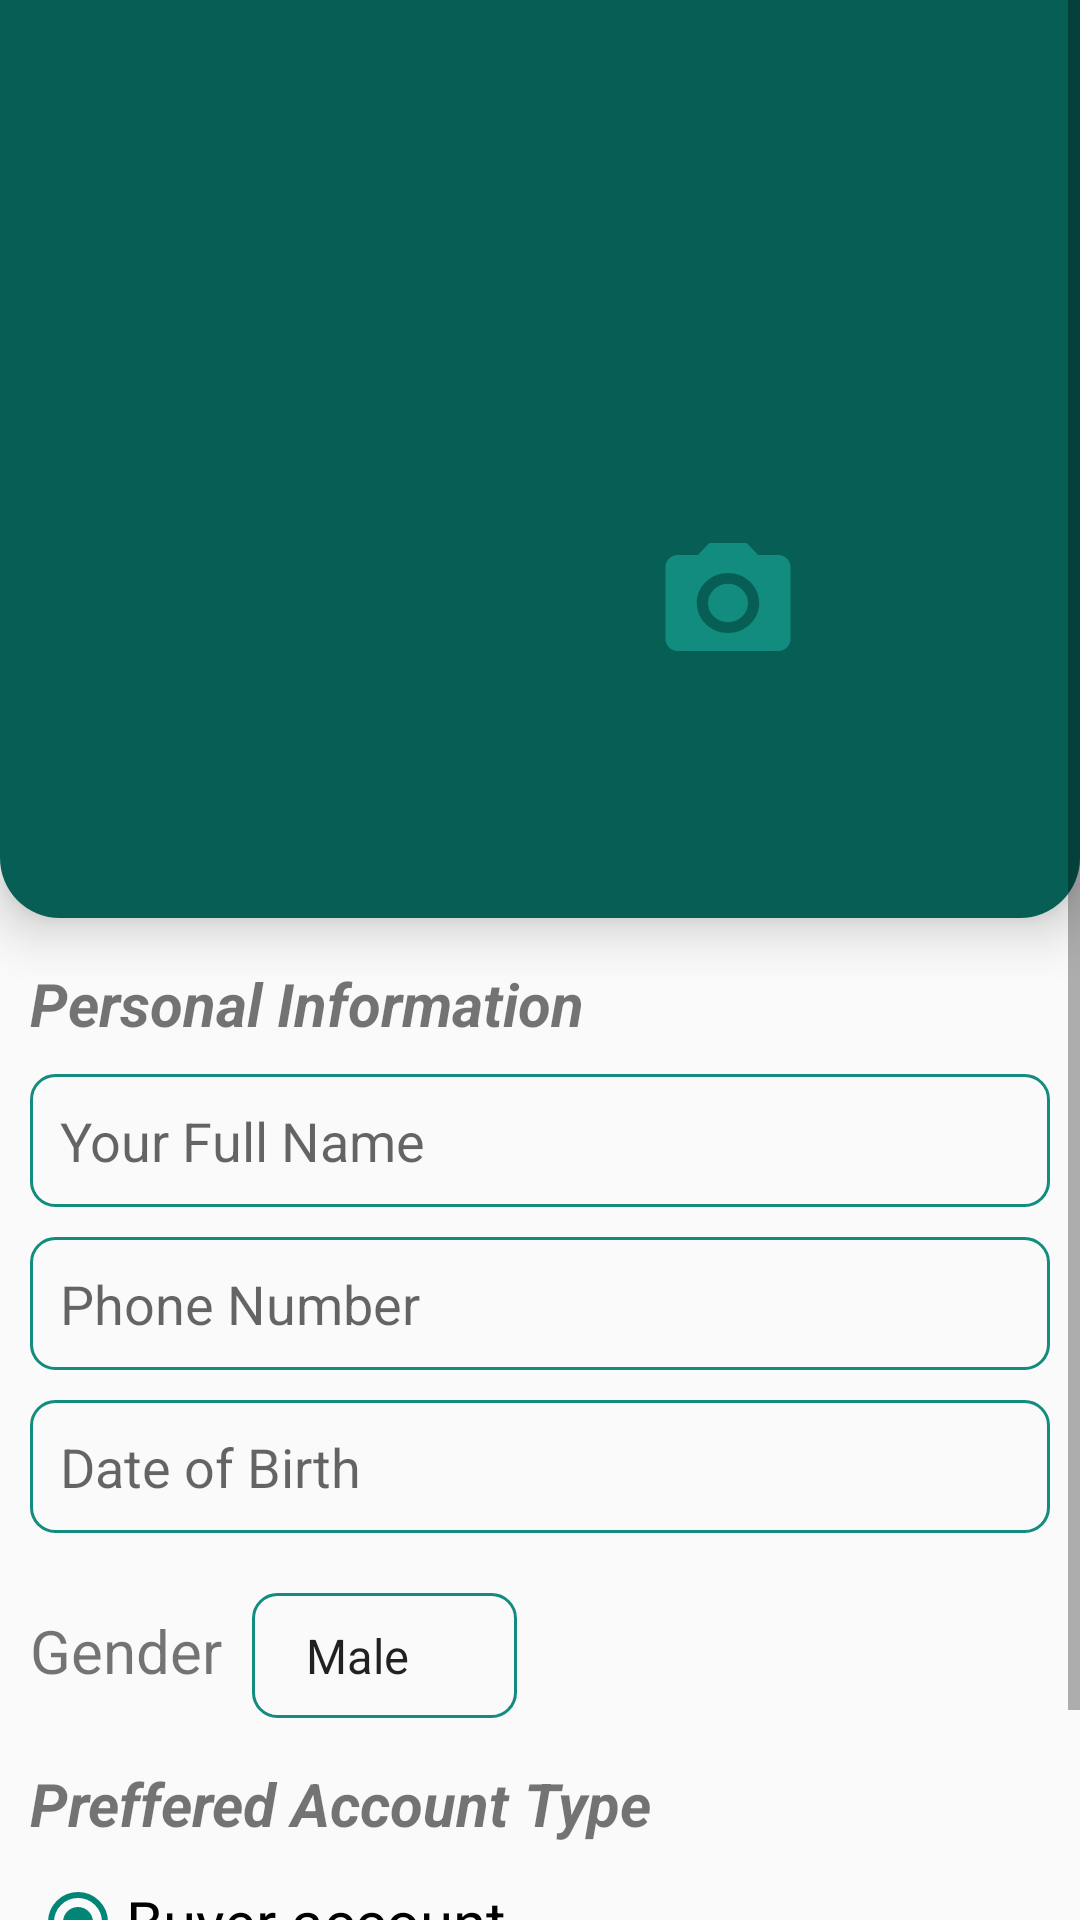

Icon bounding boxes for this 1080w x 1920h phone screenshot, format bbox=(x1, y1, x2, y2):
photo camera: bbox=(666, 543, 790, 651)
